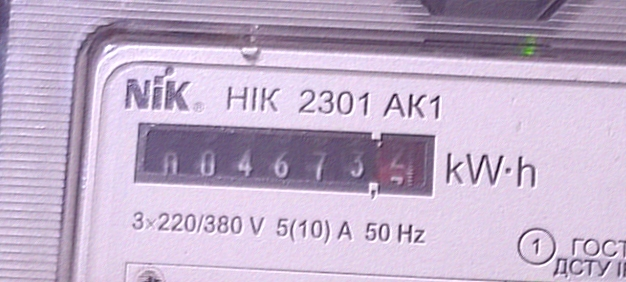0: (159, 147, 180, 178), (197, 147, 216, 179)
2: (386, 140, 408, 172)
3: (347, 147, 365, 182)
4: (235, 145, 254, 180)
6: (269, 146, 291, 181)
7: (307, 148, 330, 186)
screen: (128, 117, 440, 207)
